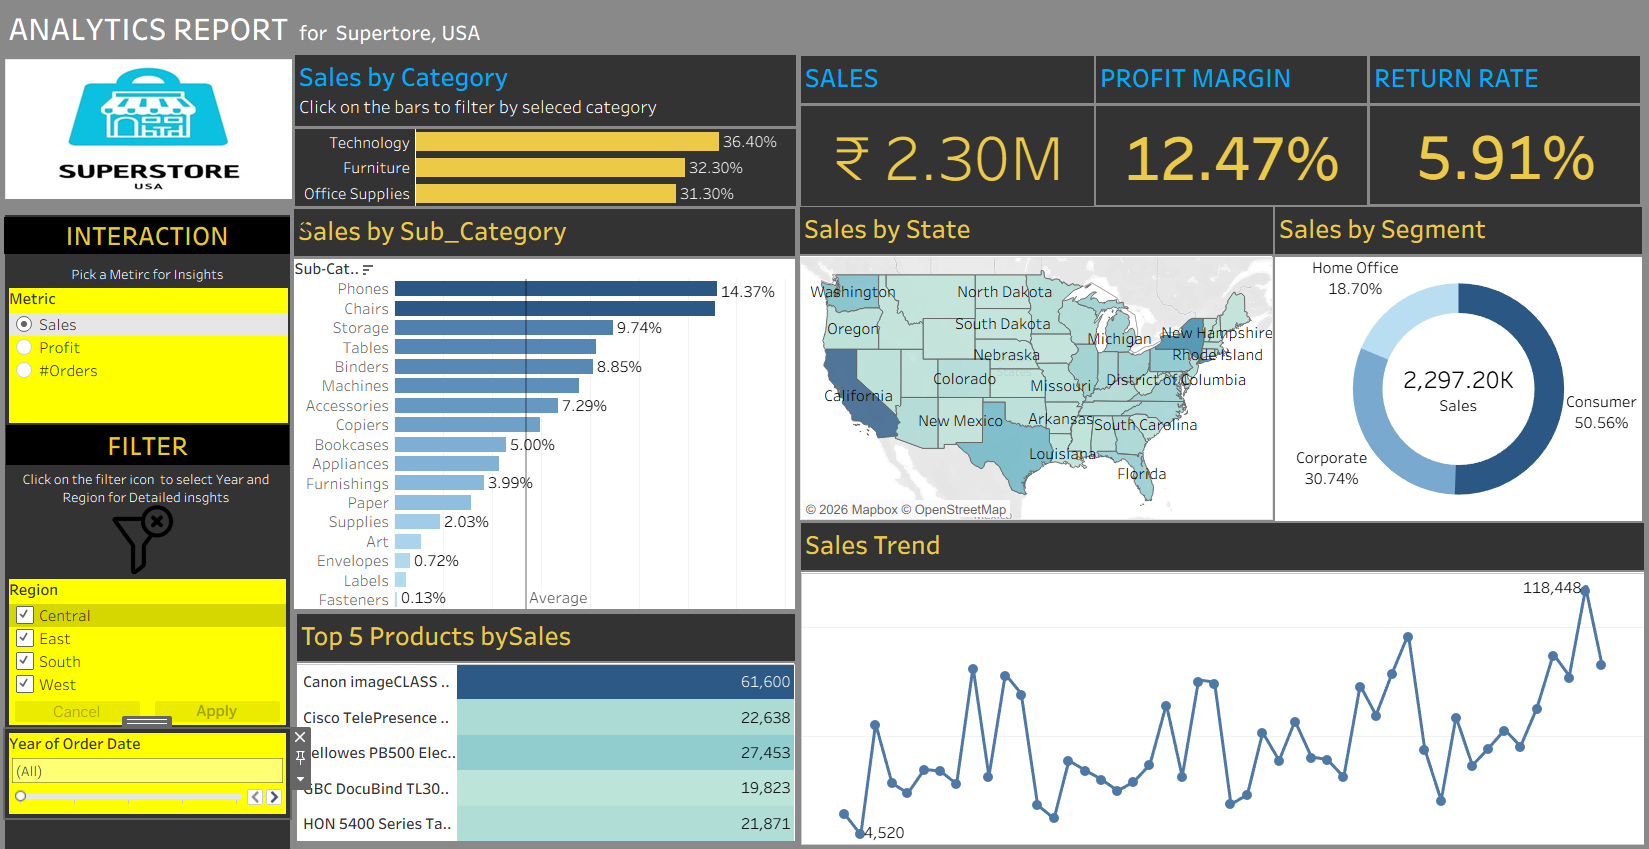

The page's visual inventory and layout, read from the dashboard file:
{"tool":"tableau","page":{"name":"Dashboard Superstore Data(7)","canvas":[1000,1000],"units":"permille","ordinal":0},"visuals":[{"type":"text","box":[4.8,10,992.8,48.7]},{"type":"worksheet","title":"Sales by cateogry","mark":"Automatic","rows":["Category"],"cols":["Calculation_2323575951351320587"],"box":[179.6,66.7,302.5,177.8]},{"type":"worksheet","title":"SALES","mark":"Automatic","box":[485.1,67.8,176.7,176.7]},{"type":"worksheet","title":"PROFIT MARGIN","mark":"Automatic","box":[663,67.8,163.8,175.6]},{"type":"worksheet","title":"RETURN RATE","mark":"Automatic","box":[828.6,67.8,163.2,174.4]},{"type":"image","param":"Image/Picture1.jpg","box":[4.8,71.2,173.2,211]},{"type":"worksheet","title":"Sales by state","mark":"Automatic","box":[484.5,245.6,285.6,367.8]},{"type":"worksheet","title":"Sales by segemnt","mark":"Pie","rows":["Calculation_2323575951357579279","Calculation_2323575951357579279"],"box":[771.2,245.6,221.8,368.9]},{"type":"worksheet","title":"Sales by sub-category","mark":"Automatic","rows":["Sub-Category"],"cols":["Calculation_2323575951351320587"],"box":[179.1,247.8,302.5,470]},{"type":"dashboard-object","box":[176.7,255.6,14,26.7]},{"type":"text","box":[4.2,257.2,172.6,43.7]},{"type":"text","box":[6,304.6,169.6,38.7]},{"type":"parameter","param":"[Parameters].[Parameter 2]","box":[7.2,340.8,168.4,158.6]},{"type":"text","box":[5.4,501.9,170.8,47.4]},{"type":"text","box":[4.8,546.8,170.2,58.7]},{"type":"dashboard-object","box":[53.8,595.6,67.9,81.1]},{"type":"worksheet","title":" Trend","mark":"Automatic","rows":["Calculation_2323575951351320587","Calculation_2323575951351320587"],"cols":["Order Date"],"box":[485.1,616.7,509.1,378.9]},{"type":"filter","title":"Sales by cateogry","param":"[federated.1wt2rs10pttj4z19uh8rk15vywmw].[none:Region:nk]","box":[4.7,677.8,172,200.5]},{"type":"worksheet","title":"Top 5 Products by","mark":"Square","rows":["Product Name"],"box":[180.8,723.3,300.8,267.8]}]}

Visuals, with their boxes on the dashboard's canvas, which has no fixed pixel size, in thousandths of its width and height (x1, y1, x2, y2). These are canvas units, not pixel positions in the 1649x849 screenshot, which may show the page scaled, cropped or inside an application window:
text: locate(5, 10, 998, 59)
"Sales by cateogry" worksheet: locate(180, 67, 482, 244)
"SALES" worksheet: locate(485, 68, 662, 244)
"PROFIT MARGIN" worksheet: locate(663, 68, 827, 243)
"RETURN RATE" worksheet: locate(829, 68, 992, 242)
image: locate(5, 71, 178, 282)
"Sales by state" worksheet: locate(484, 246, 770, 613)
"Sales by segemnt" worksheet (Pie marks): locate(771, 246, 993, 614)
"Sales by sub-category" worksheet: locate(179, 248, 482, 718)
dashboard-object: locate(177, 256, 191, 282)
text: locate(4, 257, 177, 301)
text: locate(6, 305, 176, 343)
parameter: locate(7, 341, 176, 499)
text: locate(5, 502, 176, 549)
text: locate(5, 547, 175, 606)
dashboard-object: locate(54, 596, 122, 677)
" Trend" worksheet: locate(485, 617, 994, 996)
"Sales by cateogry" filter: locate(5, 678, 177, 878)
"Top 5 Products by" worksheet (Square marks): locate(181, 723, 482, 991)
